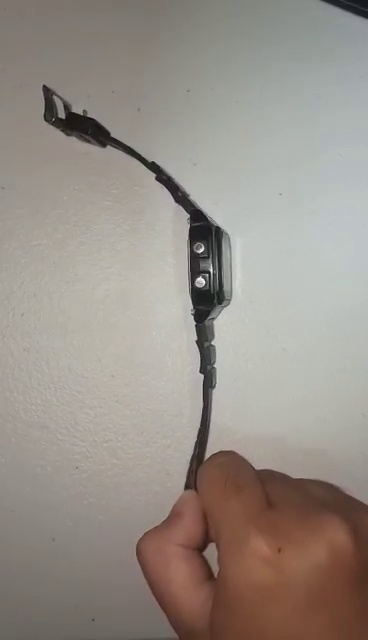watch: (42, 84, 233, 454)
